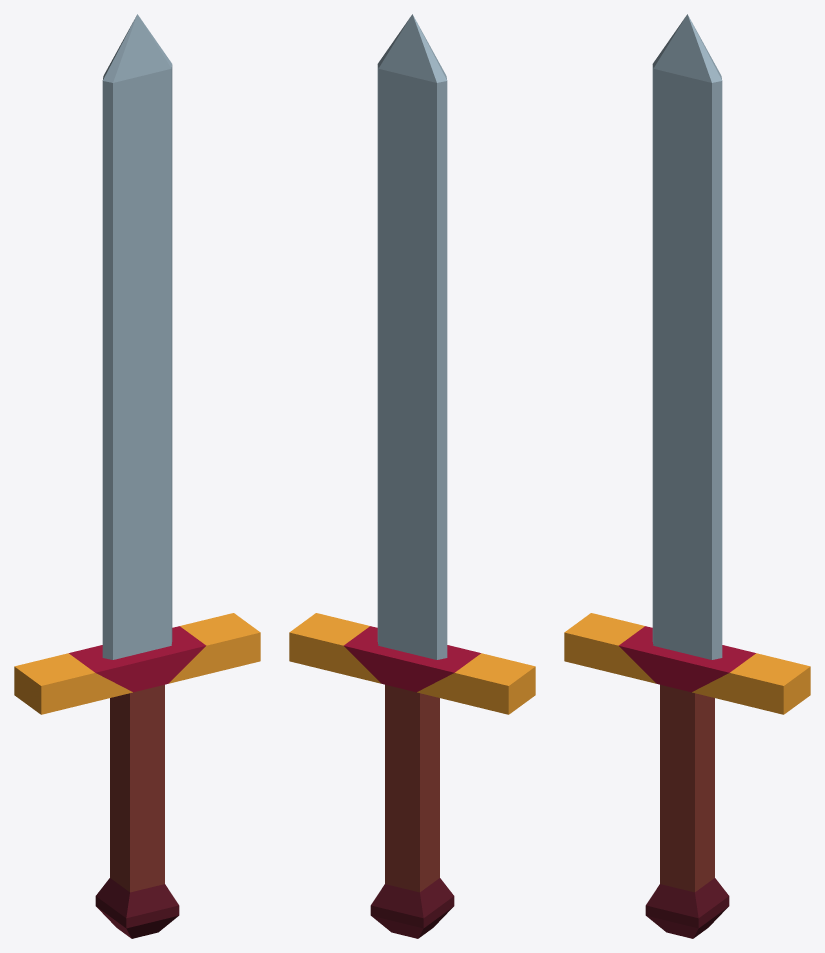
File: sword.fbx
3 renders of one model, left to right at view 1: azimuth 30°, elevation 25°; view 2: azimuth 150°, elevation 25°; view 3: azimuth 330°, elevation 25°, orthographic.
Parts seen in each view (by area): view 1: sword; view 2: sword; view 3: sword.
Boxes of the visible parts, <box> form: sword: <box>14,14,260,938</box>; sword: <box>289,14,535,938</box>; sword: <box>564,14,810,938</box>.
Size of the model in its own units: 17.89 by 71.36 by 4.32.
